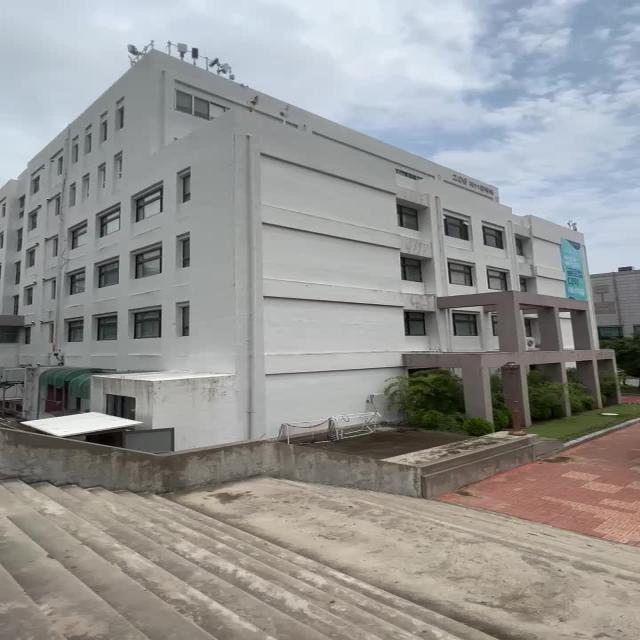building: (29, 62, 599, 416)
